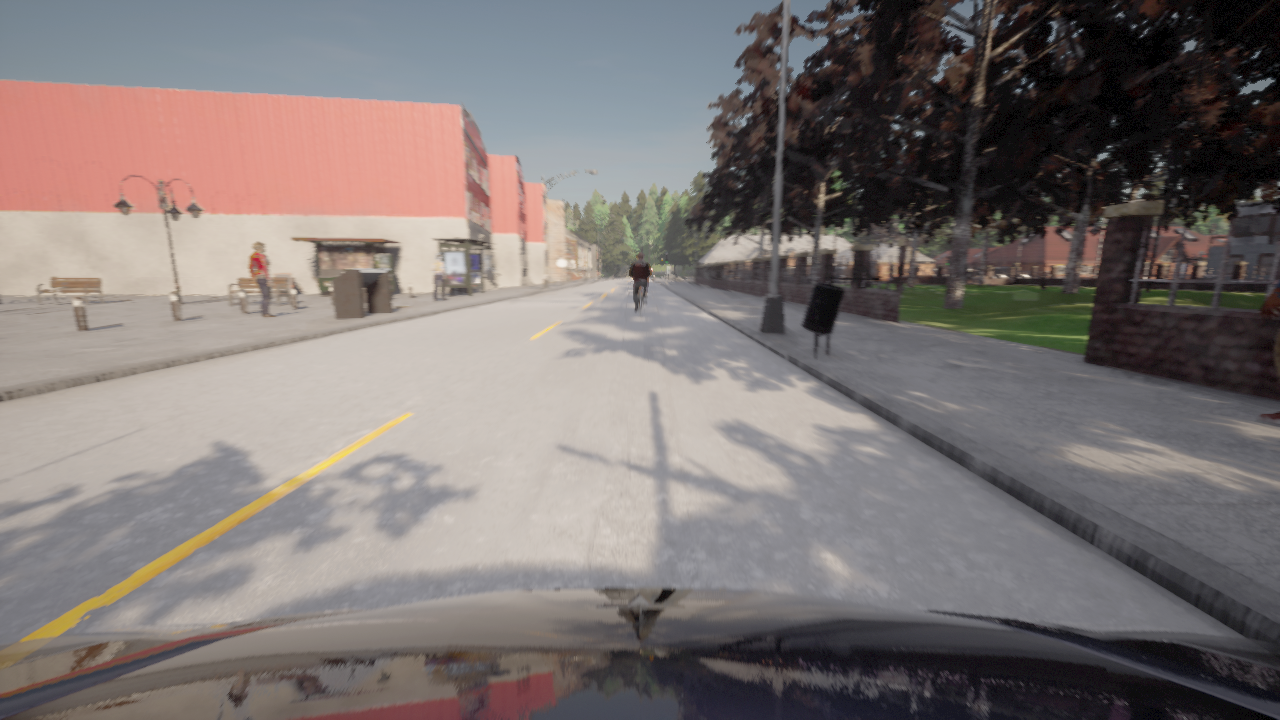cyclist: (0, 588, 1279, 719), (638, 288, 645, 316), (834, 275, 837, 282)
pedestrian: (1257, 278, 1279, 424), (249, 243, 276, 318), (431, 254, 447, 302)
